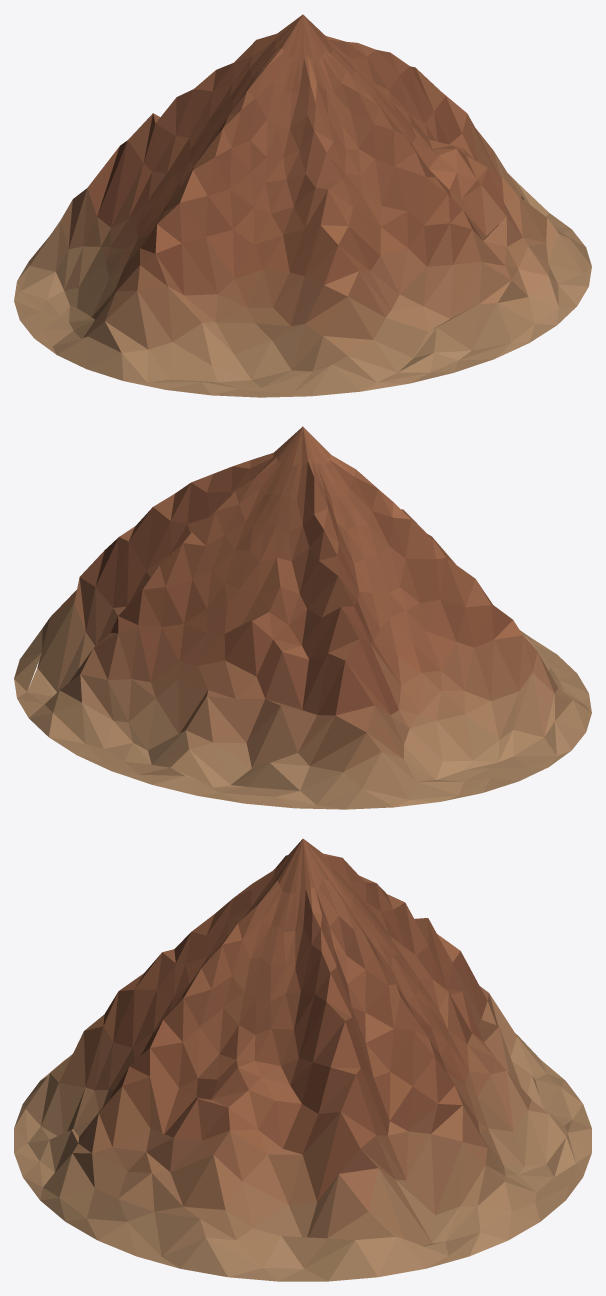
Rendered from mountain_red.glb.
3 views of the same model, one above another, from view 1: azimuth 30°, elevation 25°; view 2: azimuth 150°, elevation 25°; view 3: azimuth 270°, elevation 25° (orthographic). The views are drawn at different scales.
Visible parts, largest first — view 1: mountain_red; view 2: mountain_red; view 3: mountain_red.
Boxes of the visible parts, <box> form: mountain_red: <box>14,14,591,397</box>; mountain_red: <box>14,426,591,809</box>; mountain_red: <box>14,838,591,1281</box>.
Bounding box in the file's own units: 188 × 93.75 × 162.
